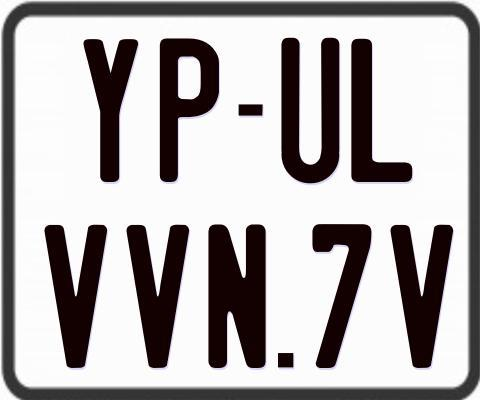7: (311, 221, 373, 368)
L: (351, 36, 413, 184)
N: (206, 224, 264, 370)
P: (157, 37, 219, 183)
U: (281, 38, 342, 183)
V: (45, 224, 110, 372), (127, 225, 192, 373), (390, 222, 452, 371)
Y: (80, 37, 140, 186)
